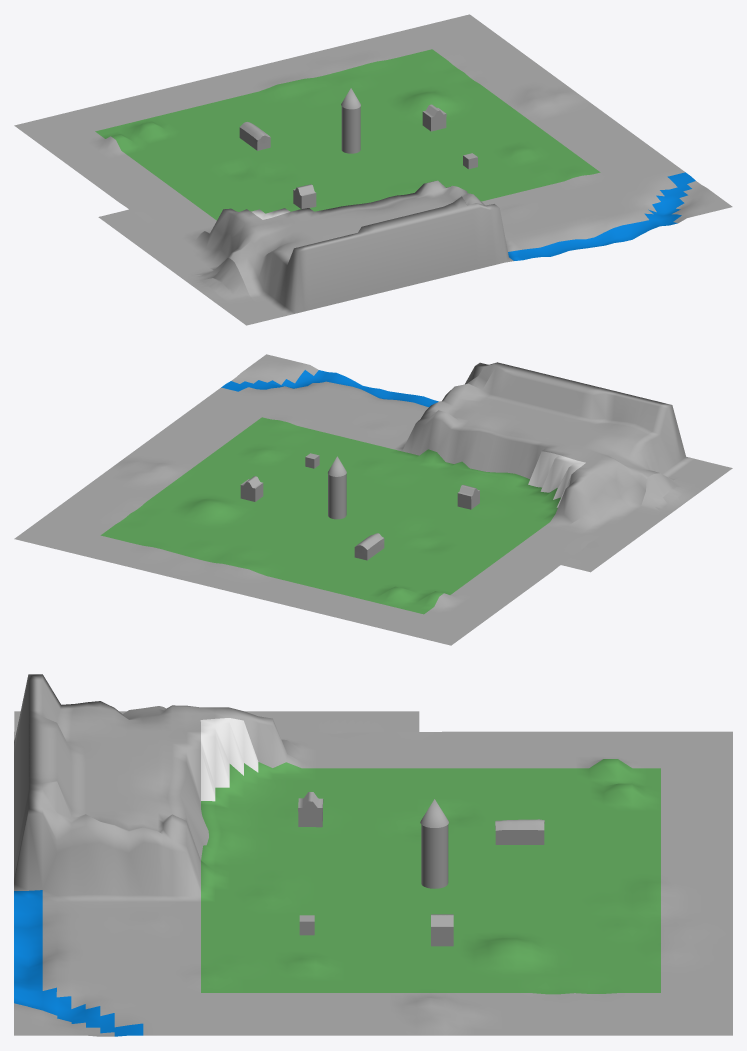
The picture shows the model from 3 angles, top to bottom: view 1: azimuth 30°, elevation 25°; view 2: azimuth 150°, elevation 25°; view 3: azimuth 270°, elevation 25°; orthographic projection. The views are drawn at different scales.
Visible parts, largest first — view 1: pPlane9, pCylinder2, pasted__pCube2; view 2: pPlane9, pCylinder2, pasted__pCube2; view 3: pPlane9, pCylinder2, pasted__pCube2.
Boxes of the visible parts, x1=… form: pPlane9: x1=14, y1=14, x2=732, y2=325; pCylinder2: x1=341, y1=88, x2=360, y2=153; pasted__pCube2: x1=239, y1=122, x2=270, y2=150; pPlane9: x1=14, y1=354, x2=732, y2=645; pCylinder2: x1=328, y1=456, x2=346, y2=519; pasted__pCube2: x1=354, y1=533, x2=384, y2=560; pPlane9: x1=14, y1=674, x2=732, y2=1036; pCylinder2: x1=420, y1=799, x2=448, y2=888; pasted__pCube2: x1=495, y1=819, x2=544, y2=844.
Bounding box in the file's own units: 768 × 110 × 719.
